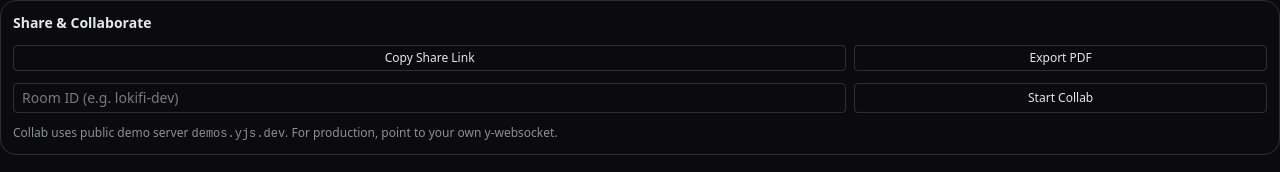
Scenario: ShareBar › Collaboration - Starting › should change button text to Stop Collab after starting
This screenshot has width=1280, height=172.
Type "room-test" into the field with placeholder "Room ID (e.g. lokifi-dev)" at (430, 98), box [13,83,846,113]
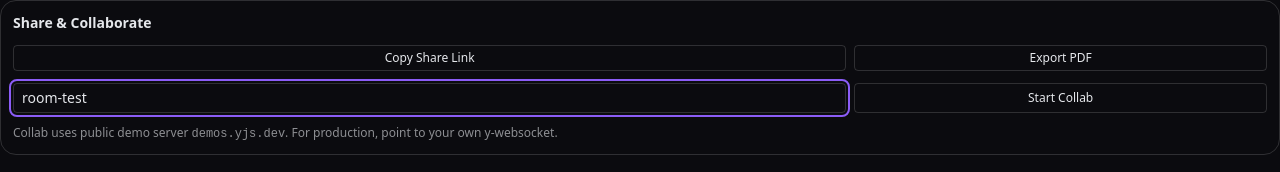
Click the button "Start Collab" at (1061, 98), box [854,83,1267,113]
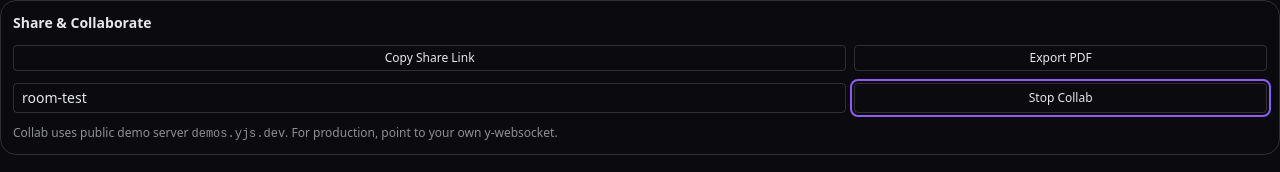
Result: the button "Stop Collab" is shown at [854,83,1267,113]
